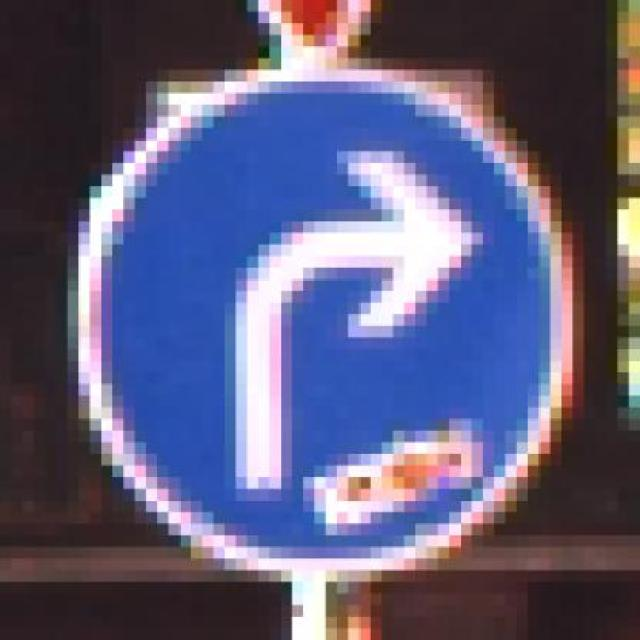Turn right ahead: (55, 70, 596, 582)
